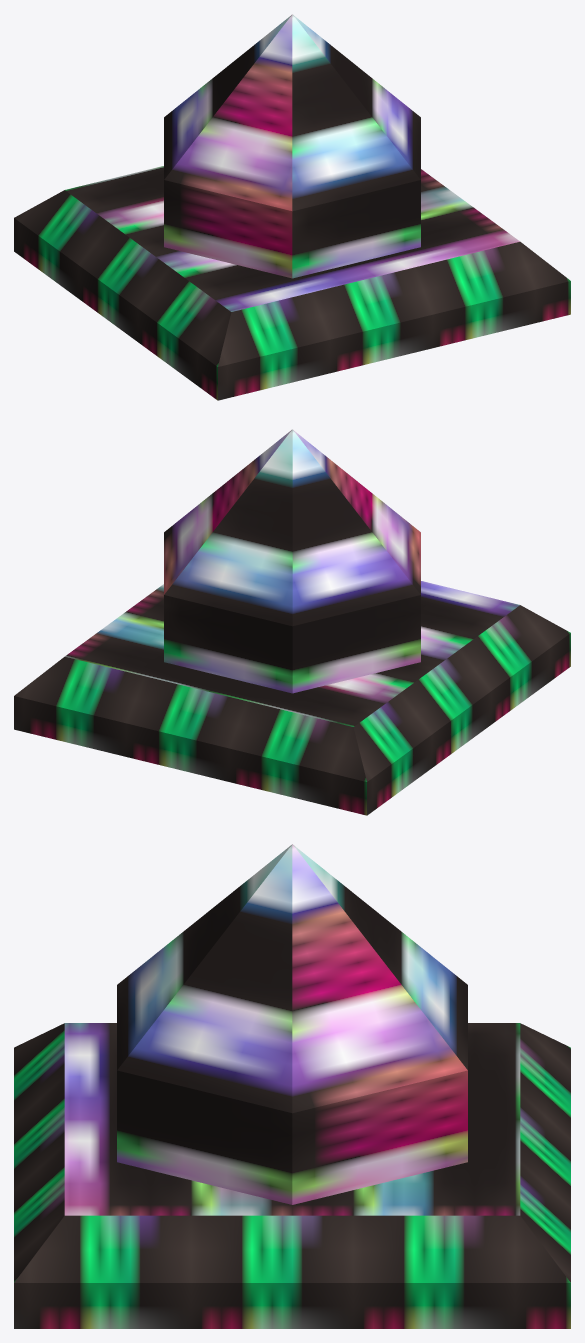
The model's file is spellwrought_ornament.obj.
The picture shows the model from 3 angles, top to bottom: view 1: azimuth 30°, elevation 25°; view 2: azimuth 150°, elevation 25°; view 3: azimuth 270°, elevation 25°; orthographic projection. The views are drawn at different scales.
Parts seen in each view (by area): view 1: SPELLWROUGHT_ORNAMENT_Cube; view 2: SPELLWROUGHT_ORNAMENT_Cube; view 3: SPELLWROUGHT_ORNAMENT_Cube.
Boxes of the visible parts, x1,y1,x2,y2 form: SPELLWROUGHT_ORNAMENT_Cube: [14, 14, 570, 400]; SPELLWROUGHT_ORNAMENT_Cube: [14, 429, 570, 815]; SPELLWROUGHT_ORNAMENT_Cube: [14, 844, 570, 1328].
Bounding box in the file's own units: 0.6875 × 0.5 × 0.6875.
